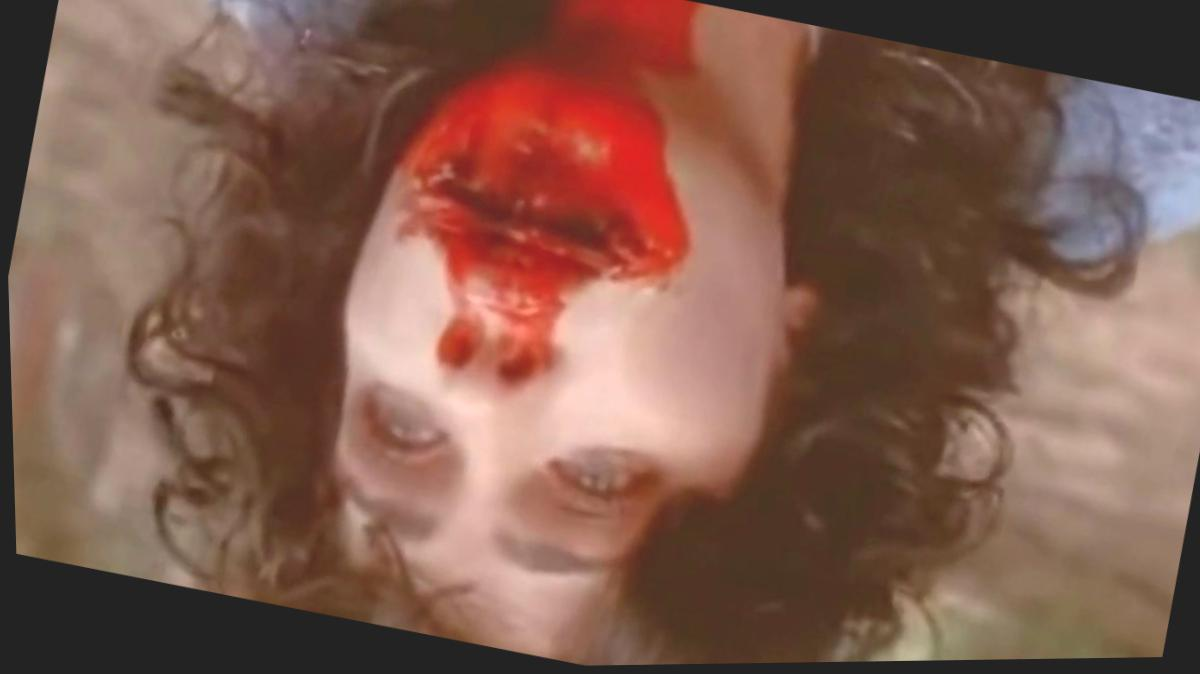Fire: (396, 0, 700, 387)
